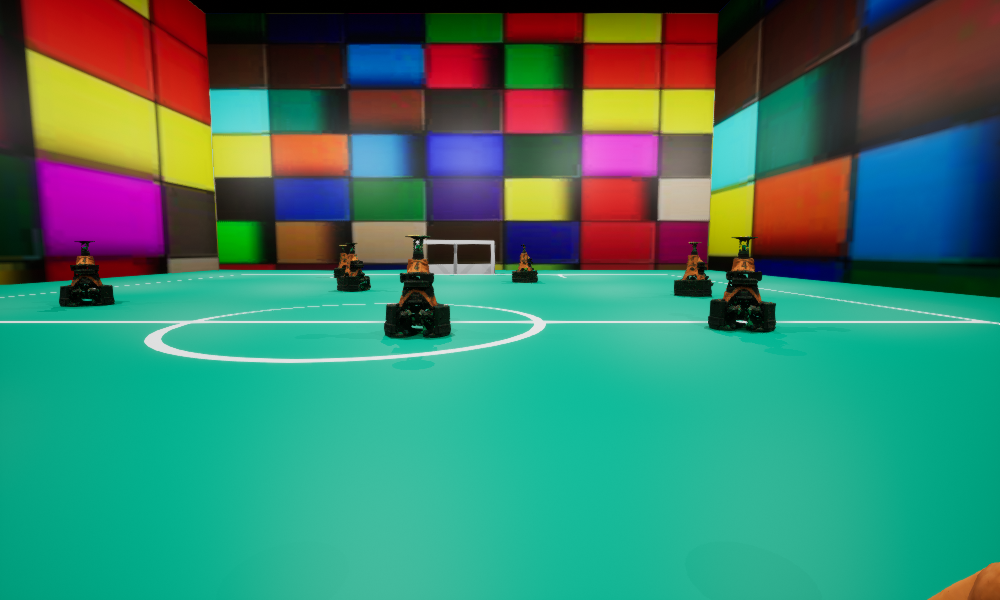0 orange robot TechUnited: (384, 235, 450, 337), (708, 236, 775, 330), (59, 241, 114, 306), (927, 562, 999, 599), (674, 242, 713, 296), (337, 243, 370, 291), (512, 244, 537, 282), (334, 245, 347, 277)
